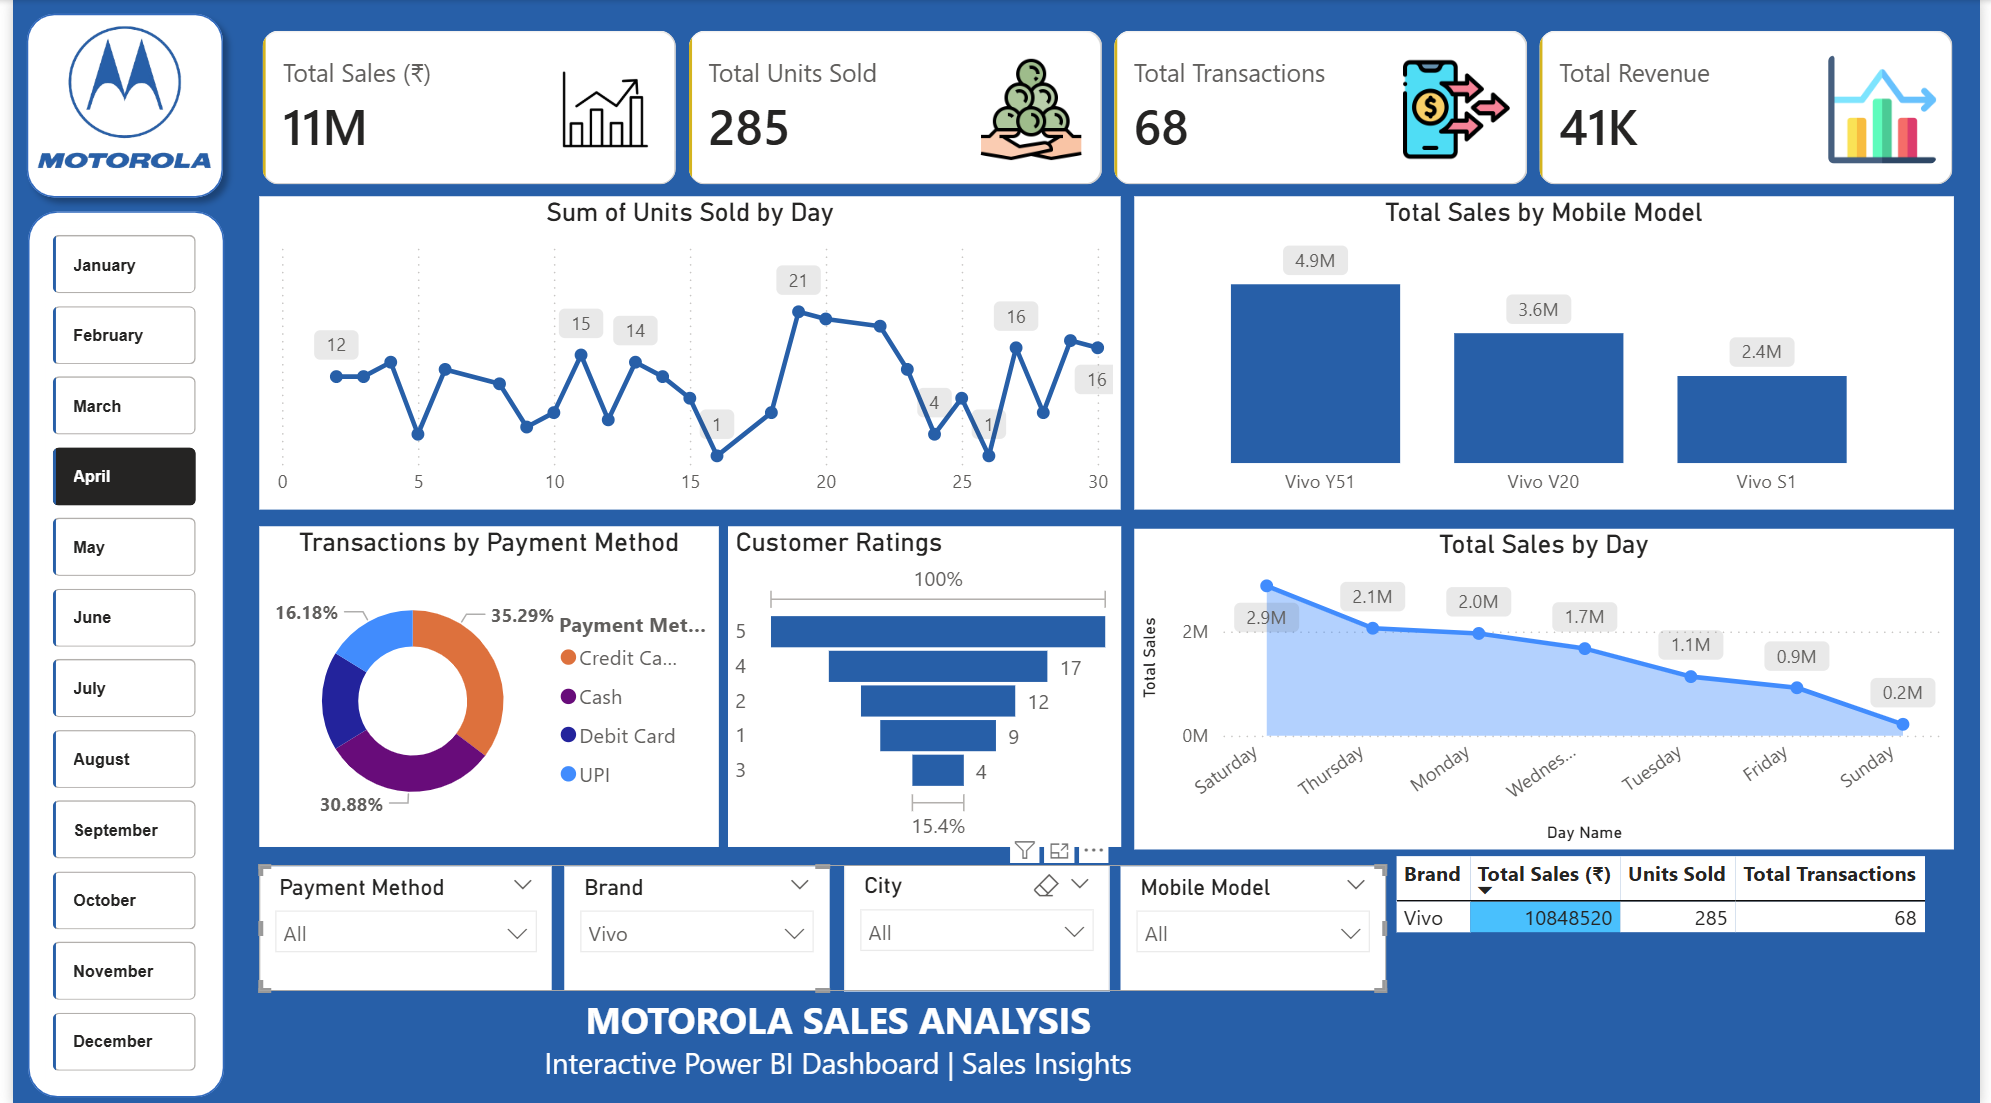

This screenshot's page, from the dashboard's own definition file:
{"tool":"powerbi","page":{"name":"Page 1","canvas":[1280,720],"ordinal":0},"visuals":[{"type":"shape","box":[0,0,145.7,137.5],"z":0,"group":"g1"},{"type":"shape","box":[9.8,137.5,127.8,576.9],"z":0},{"type":"group","id":"g1","title":"Group 1","box":[0,0,145.7,703.9],"z":1000},{"type":"image","box":[7.3,7.3,130.2,112.3],"z":1000,"group":"g1"},{"type":"cardVisual","fields":{"Data":["Sales_Data_Mobil.Total Sales","Sales_Data_Mobil.Total Quantity","Sales_Data_Mobil.Transactions","Sales_Data_Mobil.Average"]},"box":[145.7,3.3,1134.4,134.3],"z":2000},{"type":"advancedSlicerVisual","fields":{"Values":["Sales_Data_Mobil.Date.Variation.Date Hierarchy.Month"]},"box":[21.2,148.1,103.3,555.8],"z":2000,"group":"g1"},{"type":"lineChart","fields":{"Y":["Sum(Sales_Data_Mobil.Units Sold)"],"Category":["Sales_Data_Mobil.Date.Variation.Date Hierarchy.Month","Sales_Data_Mobil.Date.Variation.Date Hierarchy.Day"]},"box":[160.5,127.9,561,203.9],"z":3000},{"type":"clusteredColumnChart","fields":{"Category":["Sales_Data_Mobil.Mobile Model"],"Y":["Sales_Data_Mobil.Total Sales"]},"box":[729.9,127.9,533.2,203.9],"z":4000},{"type":"donutChart","fields":{"Category":["Sales_Data_Mobil.Payment Method"],"Y":["Sales_Data_Mobil.Transactions"]},"box":[160.5,342.6,299.2,208.7],"z":5000},{"type":"funnel","title":"Customer Ratings","fields":{"Category":["Sales_Data_Mobil.Customer Ratings"],"Y":["CountNonNull(Sales_Data_Mobil.Customer Ratings)"]},"box":[465.7,342.6,255.8,208.7],"z":6000},{"type":"areaChart","title":"Total Sales by Day ","fields":{"Category":["Sales_Data_Mobil.Day Name"],"Y":["Sales_Data_Mobil.Total Sales"]},"box":[729.9,343.8,533.2,208.7],"z":7000},{"type":"tableEx","fields":{"Values":["Sales_Data_Mobil.Brand","Sales_Data_Mobil.Total Sales","Sales_Data_Mobil.Total Quantity","Sales_Data_Mobil.Transactions"]},"box":[894,552.5,377.6,168],"z":8000},{"type":"slicer","fields":{"Values":["Sales_Data_Mobil.Mobile Model"]},"box":[720.9,564.2,172.5,80.8],"z":9000,"group":"g2"},{"type":"textbox","box":[234,624.9,605.6,95.3],"z":9000},{"type":"group","id":"g2","title":"Group 2","box":[160.5,563,733,82],"z":10000},{"type":"slicer","fields":{"Values":["Sales_Data_Mobil.City"]},"box":[541.2,563,172.5,82],"z":10000,"group":"g2"},{"type":"slicer","fields":{"Values":["Sales_Data_Mobil.Payment Method"]},"box":[160.5,563.6,190.6,80.8],"z":11000,"group":"g2"},{"type":"slicer","fields":{"Values":["Sales_Data_Mobil.Brand"]},"box":[359,564.2,172.5,80.8],"z":12000,"group":"g2"}]}

Visuals, with their boxes in screenshot pixels (x1, y1, x2, y2), scaled from the page's 1280x720 canvas onto the 1991x1103 screenshot:
shape: locate(0, 0, 227, 211)
shape: locate(15, 211, 214, 1094)
"Group 1" group: locate(0, 0, 227, 1078)
image: locate(11, 11, 214, 183)
cardVisual - Sales_Data_Mobil.Total Sales x Sales_Data_Mobil.Total Quantity: locate(227, 5, 1990, 211)
advancedSlicerVisual - Sales_Data_Mobil.Date.Variation.Date Hierarchy.Month: locate(33, 227, 194, 1078)
lineChart - Sum(Sales_Data_Mobil.Units Sold) x Sales_Data_Mobil.Date.Variation.Date Hierarchy.Month: locate(250, 196, 1122, 508)
clusteredColumnChart - Sales_Data_Mobil.Mobile Model x Sales_Data_Mobil.Total Sales: locate(1135, 196, 1965, 508)
donutChart - Sales_Data_Mobil.Payment Method x Sales_Data_Mobil.Transactions: locate(250, 525, 715, 845)
"Customer Ratings" funnel: locate(724, 525, 1122, 845)
"Total Sales by Day " areaChart: locate(1135, 527, 1965, 846)
tableEx - Sales_Data_Mobil.Brand x Sales_Data_Mobil.Total Sales: locate(1391, 846, 1978, 1102)
slicer - Sales_Data_Mobil.Mobile Model: locate(1121, 864, 1390, 988)
textbox: locate(364, 957, 1306, 1102)
"Group 2" group: locate(250, 862, 1390, 988)
slicer - Sales_Data_Mobil.City: locate(842, 862, 1110, 988)
slicer - Sales_Data_Mobil.Payment Method: locate(250, 863, 546, 987)
slicer - Sales_Data_Mobil.Brand: locate(558, 864, 827, 988)
